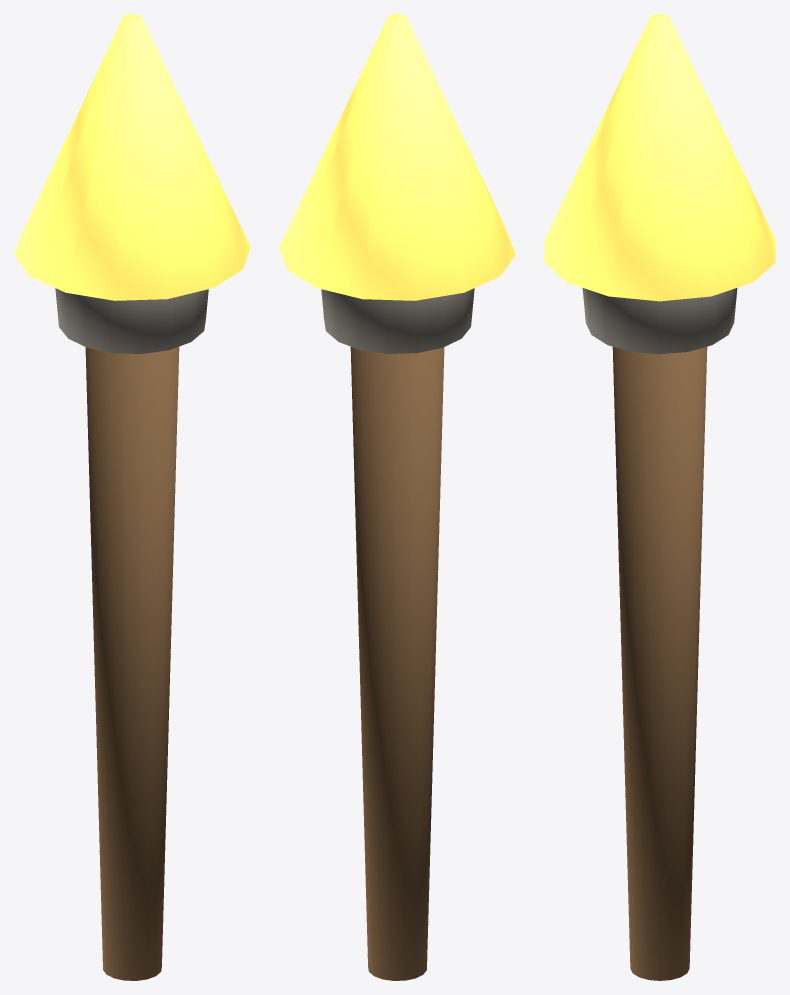
The model's file is torch.glb.
The picture shows the model from 3 angles, left to right: view 1: azimuth 30°, elevation 25°; view 2: azimuth 150°, elevation 25°; view 3: azimuth 270°, elevation 25°; orthographic projection.
Parts seen in each view (by area): view 1: torch; view 2: torch; view 3: torch.
Part boxes in pixels (<box>): torch: <box>14,14,250,980</box>; torch: <box>279,14,515,980</box>; torch: <box>544,14,775,980</box>.
Bounding box in the file's own units: 0.2264 × 1 × 0.2207.
